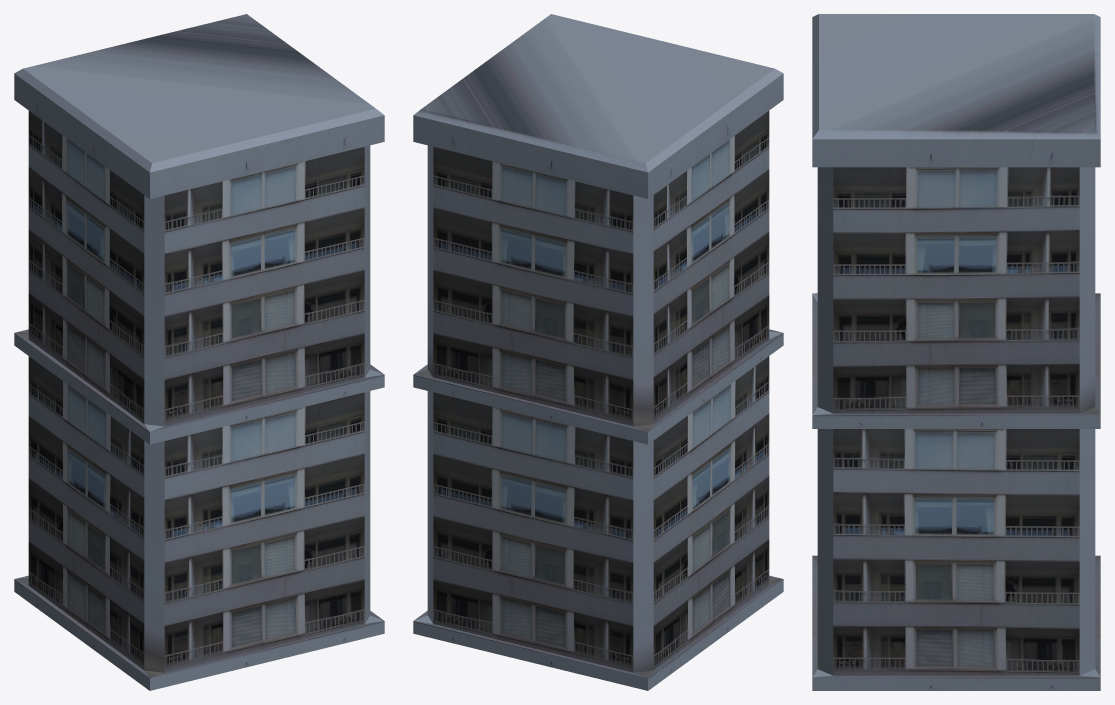
File: building1.glb
The picture shows the model from 3 angles, left to right: view 1: azimuth 30°, elevation 25°; view 2: azimuth 150°, elevation 25°; view 3: azimuth 270°, elevation 25°; orthographic projection. The views are drawn at different scales.
Visible parts, largest first — view 1: building1; view 2: building1; view 3: building1.
Boxes of the visible parts, <box> form: building1: <box>14,14,384,690</box>; building1: <box>413,14,783,690</box>; building1: <box>812,14,1100,690</box>.
Bounding box in the file's own units: 14.79 × 31.54 × 14.79.
1 material, 1 textured.
